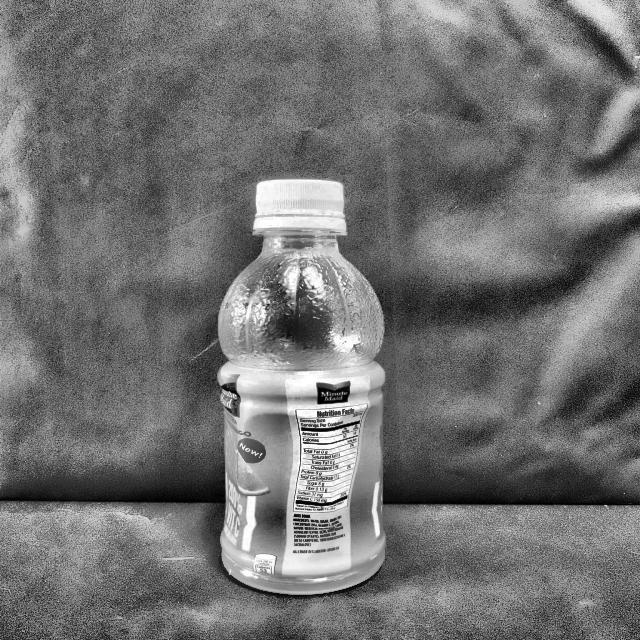Plastic-Bottle: (215, 176, 393, 598)
